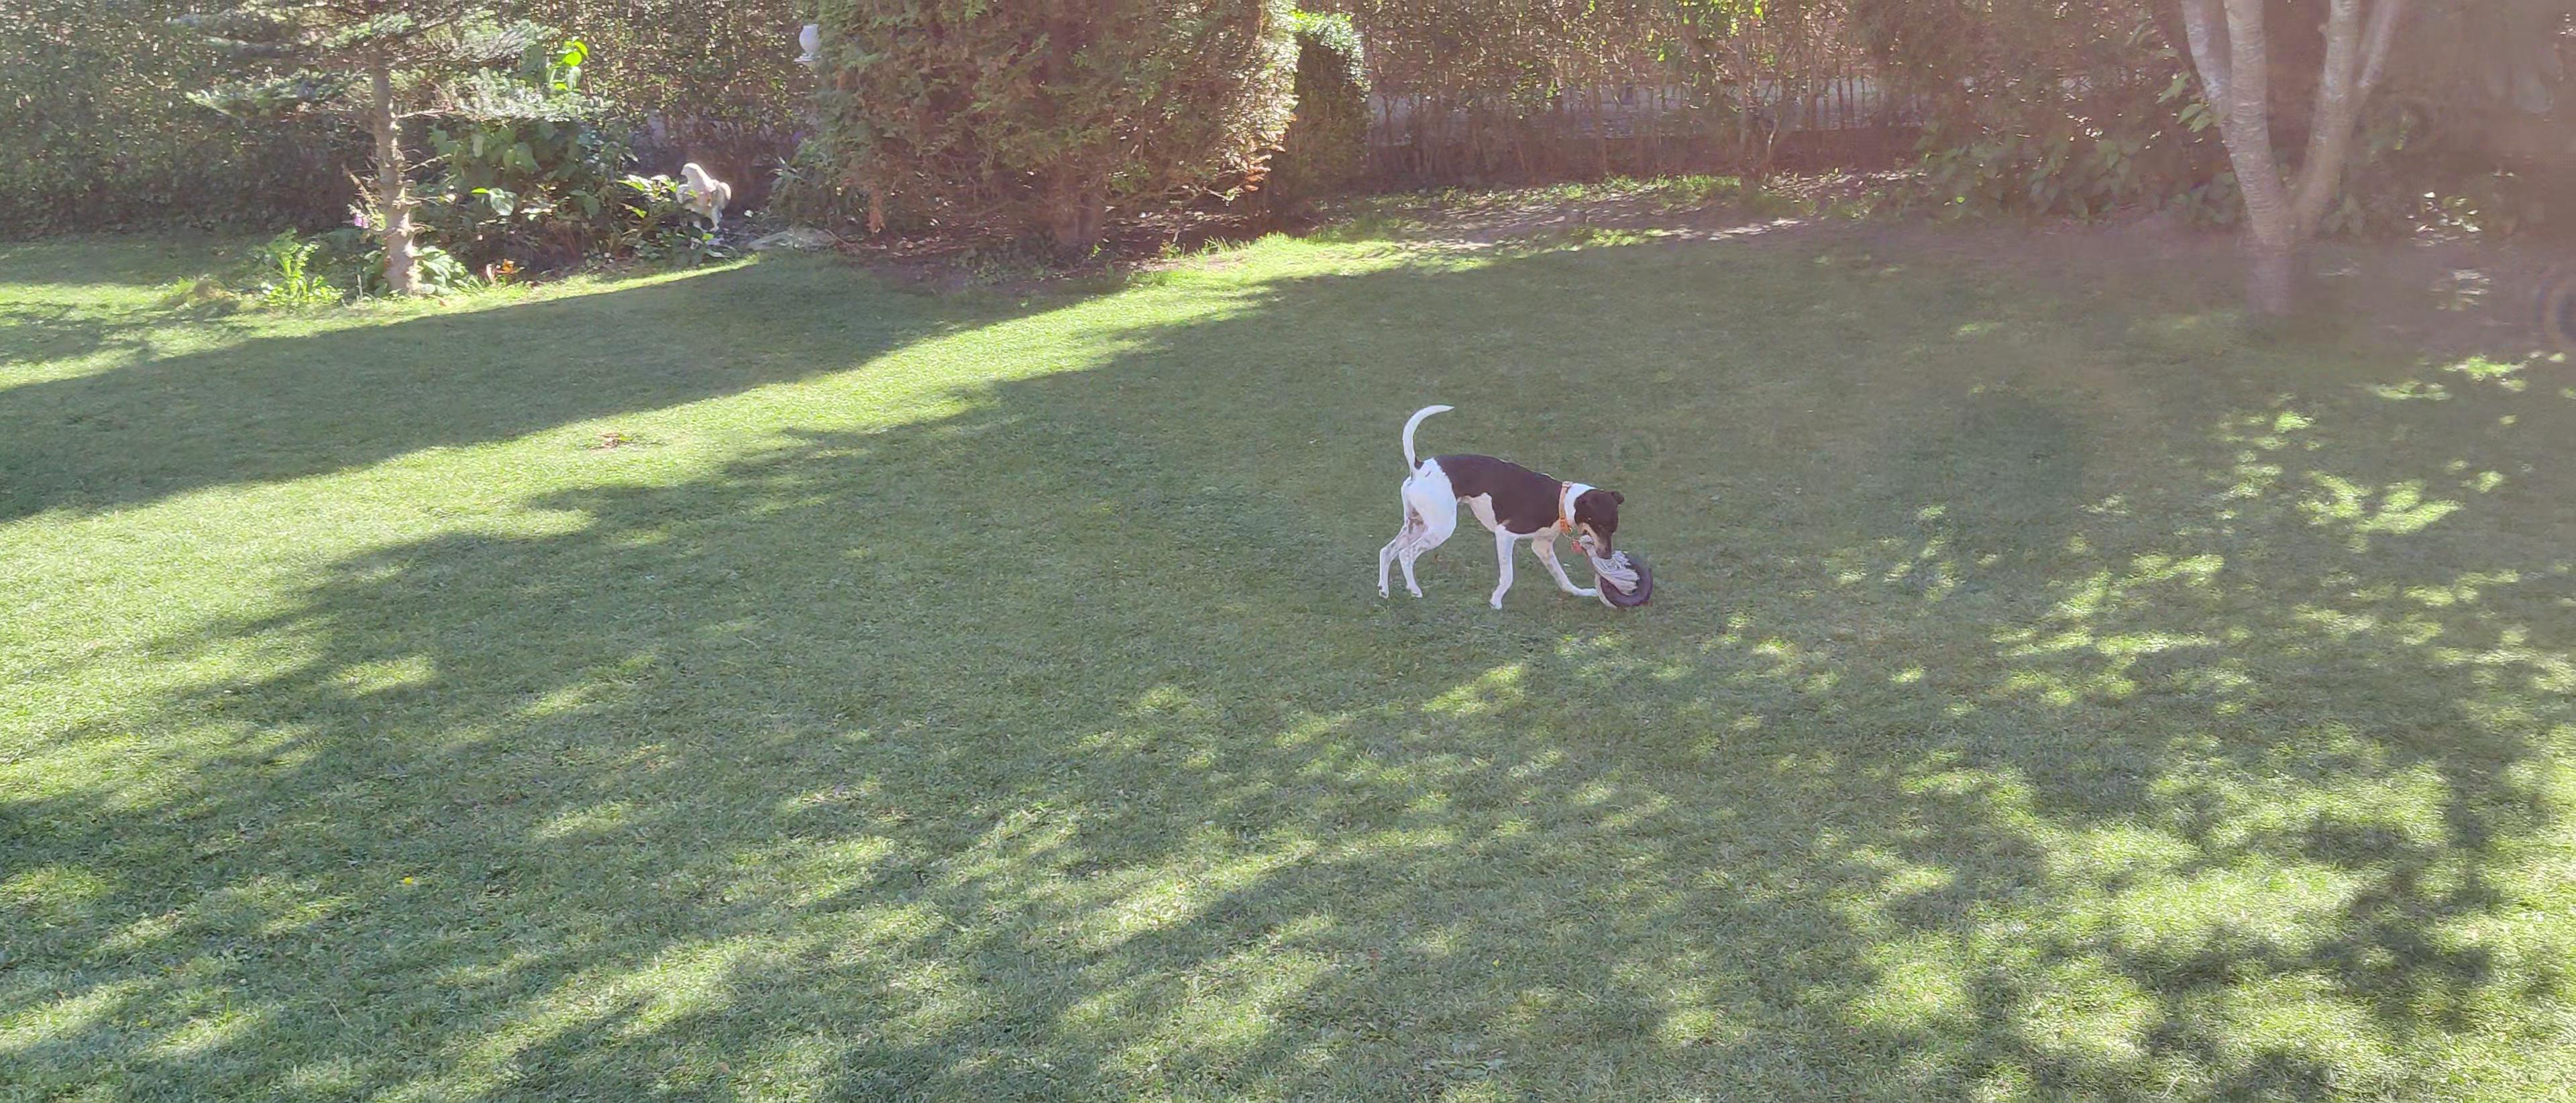Dog: (1375, 395, 1626, 613)
